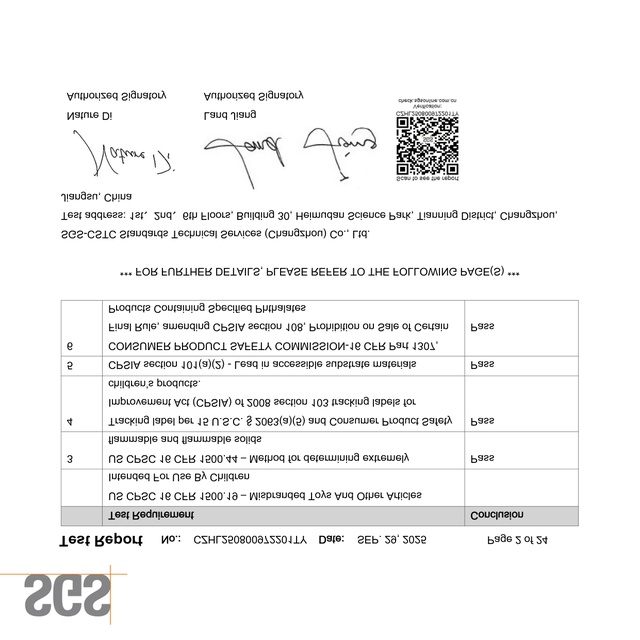sgs: (24, 574, 112, 617)
